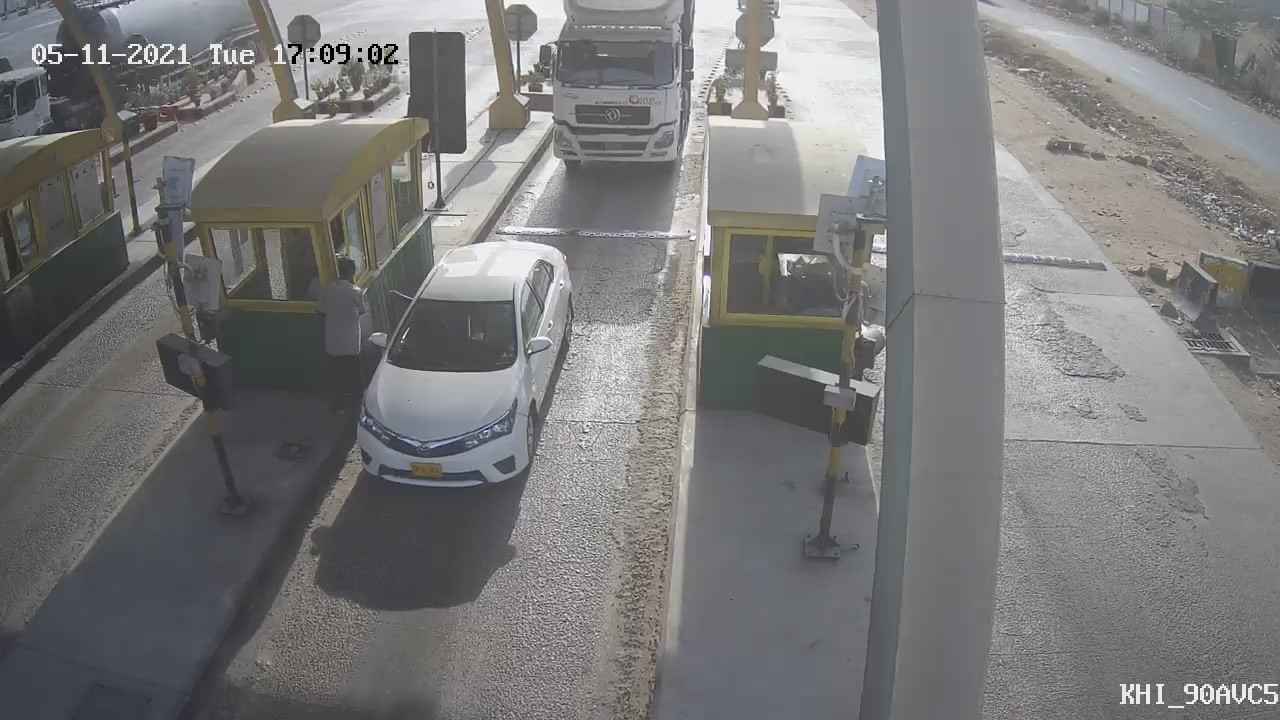F1: (335, 220, 594, 514)
